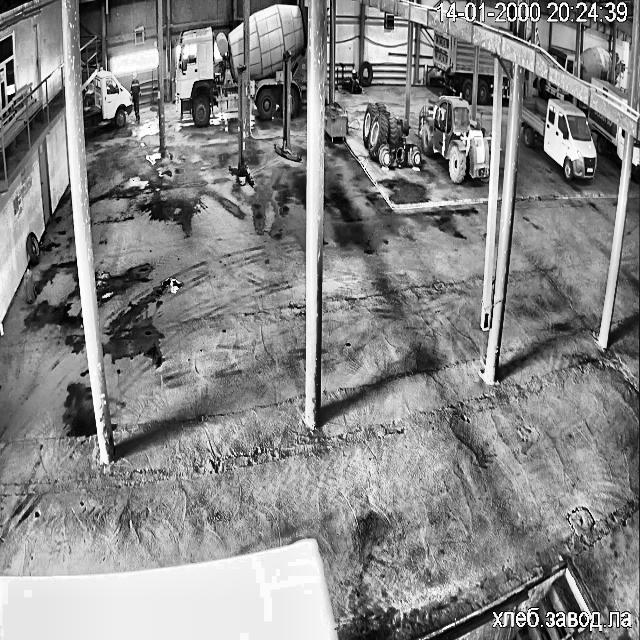class4: (130, 71, 140, 122)
class6: (418, 96, 489, 181), (362, 102, 420, 166)
class7: (176, 22, 244, 124), (248, 4, 306, 117), (521, 99, 596, 180), (433, 28, 473, 100), (85, 70, 132, 126), (588, 108, 624, 158), (580, 46, 610, 81), (477, 48, 494, 101), (592, 78, 627, 101), (535, 77, 569, 99), (548, 46, 574, 73), (632, 140, 640, 179), (500, 74, 508, 97), (616, 55, 622, 76), (504, 60, 510, 70)
tractor: (24, 268, 34, 301)
truck: (274, 52, 300, 161), (229, 66, 252, 185)
